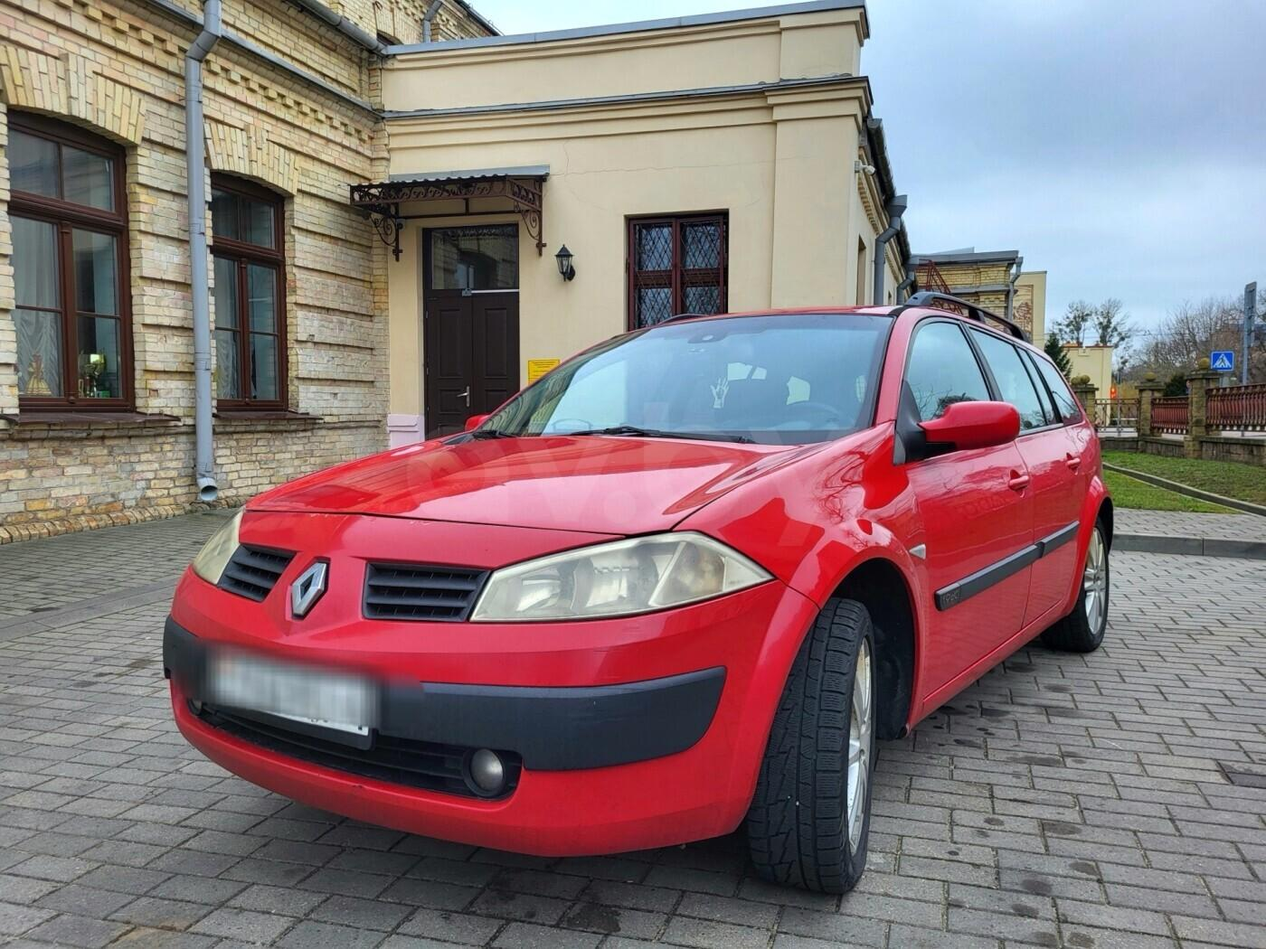Megane_2002-2006: (155, 296, 1115, 913)
